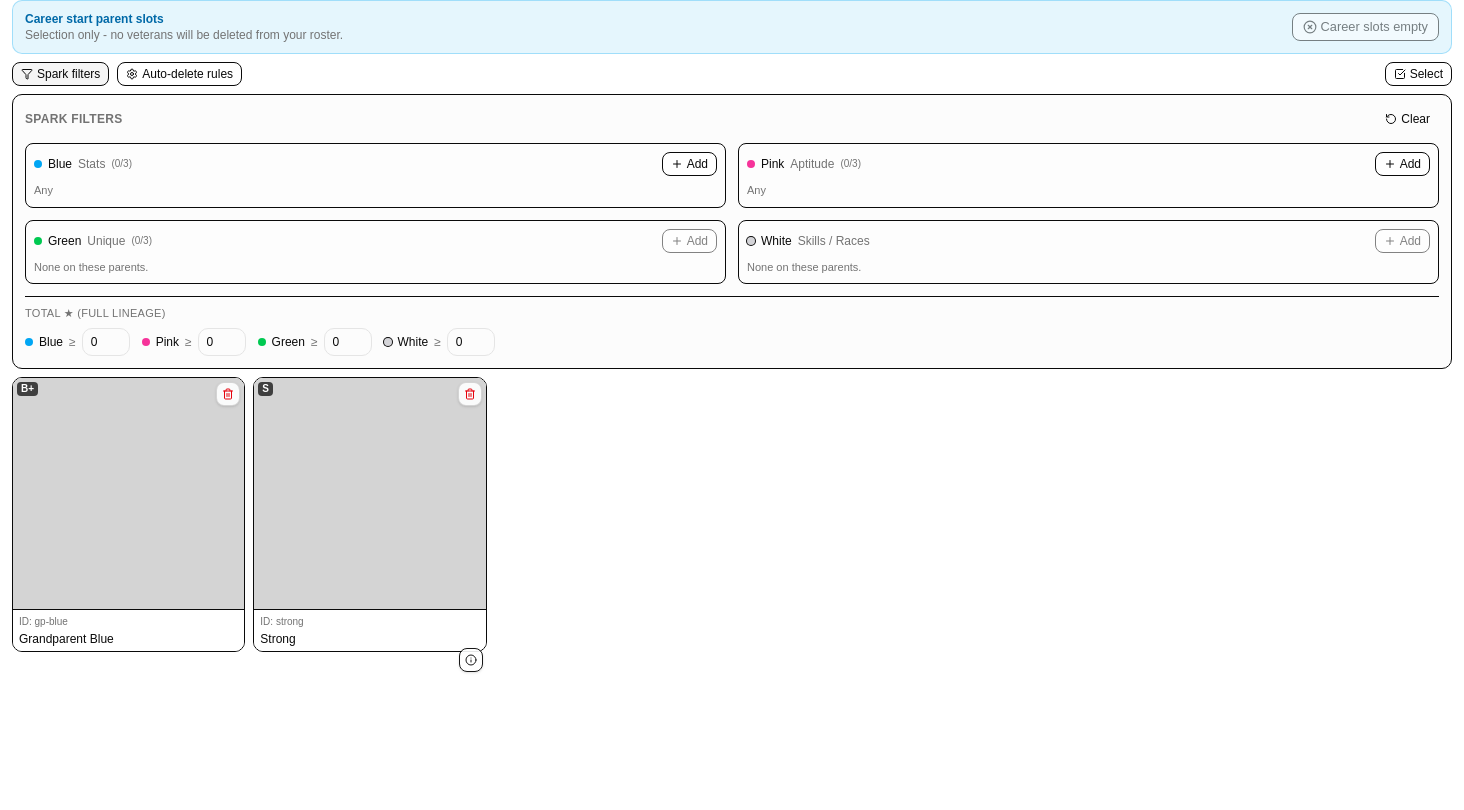
ParentGrid spark filter › does not count sparks that exist only on grandparents
This screenshot has width=1464, height=810.
Replace the text in the number field with test id "spark-minBlue" with "3" at (106, 342), box [82,328,130,356]
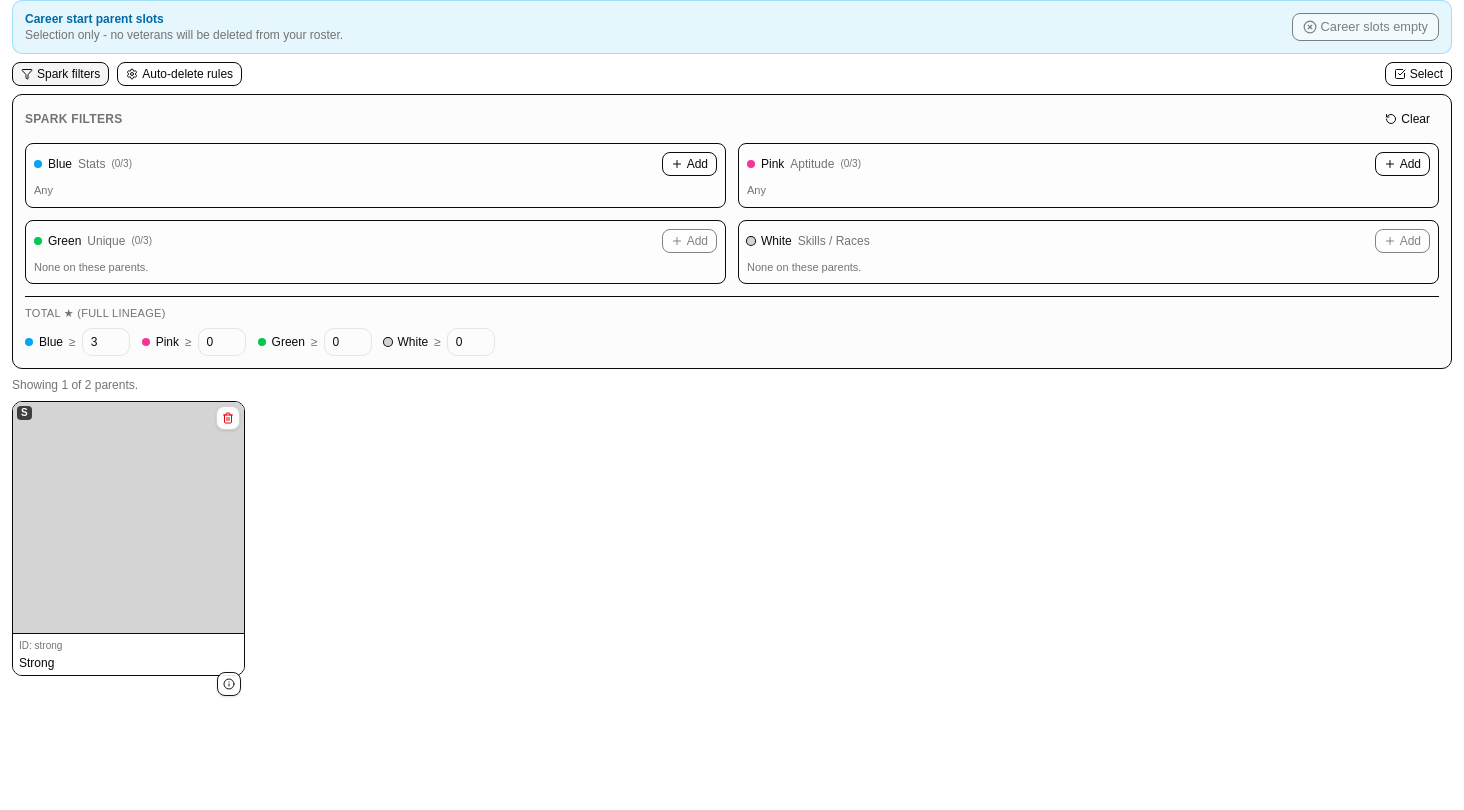
Check: the button with test id "parent-card-gp-blue" is gone
